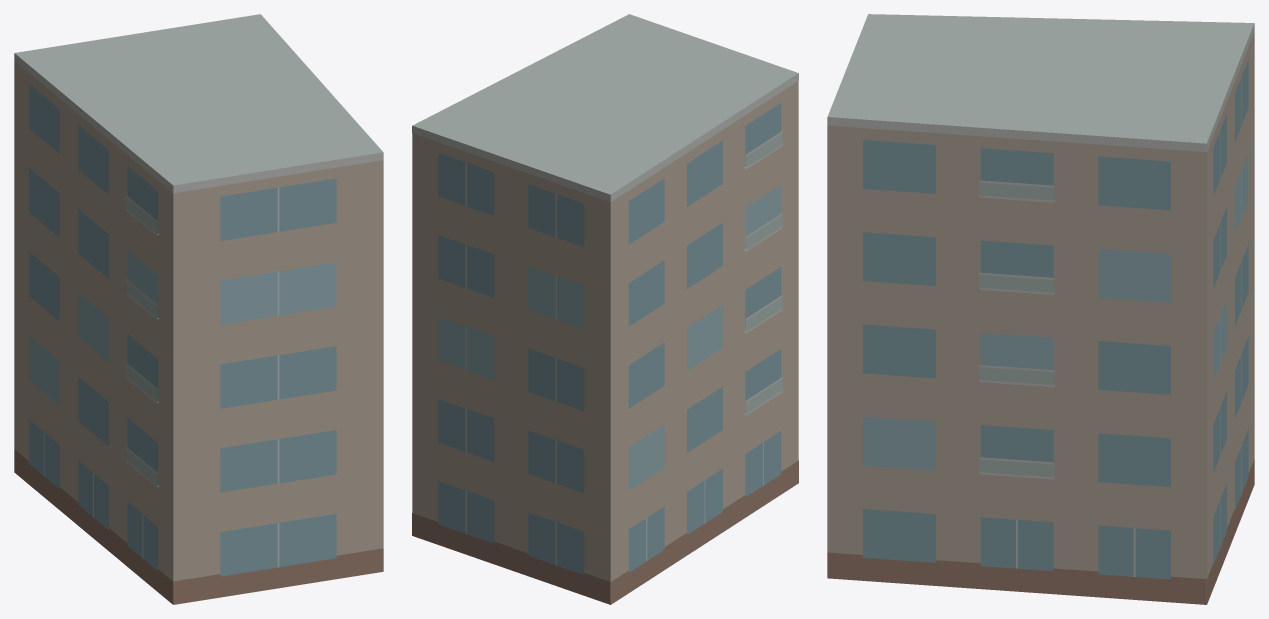
The model's file is survey-upis-32796728.glb.
3 renders of one model, left to right at view 1: azimuth 30°, elevation 25°; view 2: azimuth 150°, elevation 25°; view 3: azimuth 270°, elevation 25°, orthographic. The views are drawn at different scales.
Visible parts, largest first — view 1: survey-upis-32796728.tmp; view 2: survey-upis-32796728.tmp; view 3: survey-upis-32796728.tmp.
Boxes of the visible parts, x1,y1,x2,y2 form: survey-upis-32796728.tmp: [14, 14, 383, 604]; survey-upis-32796728.tmp: [412, 14, 798, 604]; survey-upis-32796728.tmp: [827, 14, 1254, 604].
Bounding box in the file's own units: 7.96 × 13.2 × 11.09.
